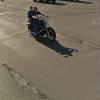Motorcycle: (18, 5, 63, 46)
